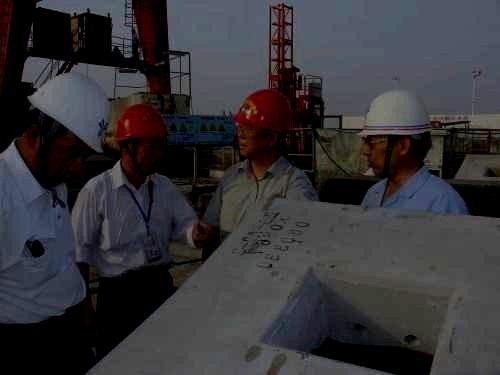helmet: (20, 69, 110, 184), (355, 88, 433, 180), (231, 88, 296, 157), (113, 101, 169, 175)
